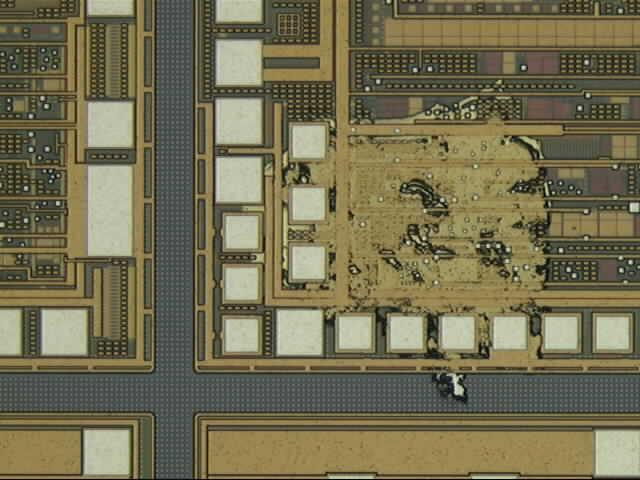BLOCK ETCH: (239, 75, 557, 409)
